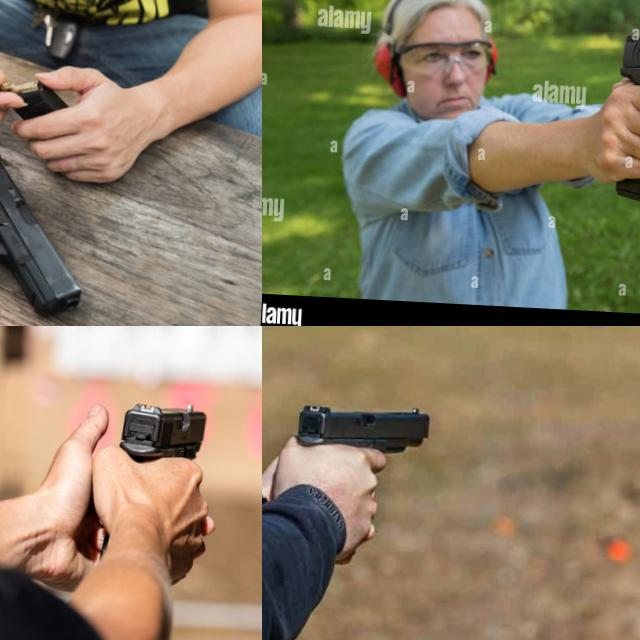handgun: (0, 138, 117, 323), (293, 396, 437, 461), (102, 398, 212, 472)
